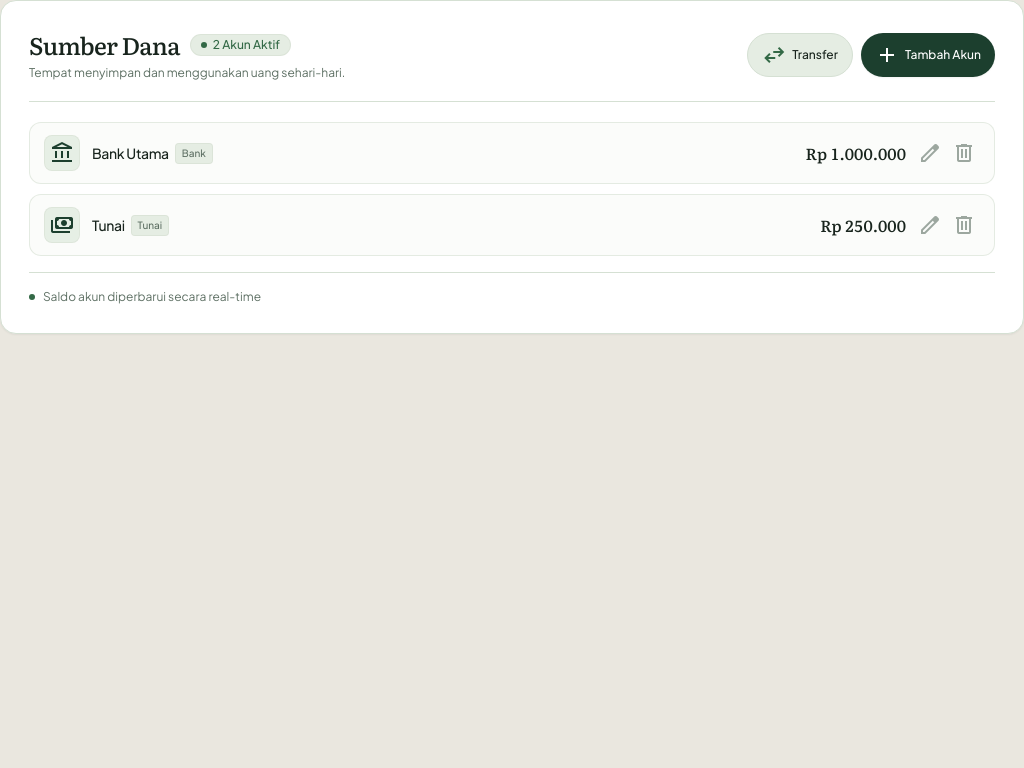
Test: SumberDanaSection interactions › keeps the account form open after a failed save and closes after success
Click the button "Tambah Akun" at (928, 55), box x1=861 y1=33 x2=995 y2=77
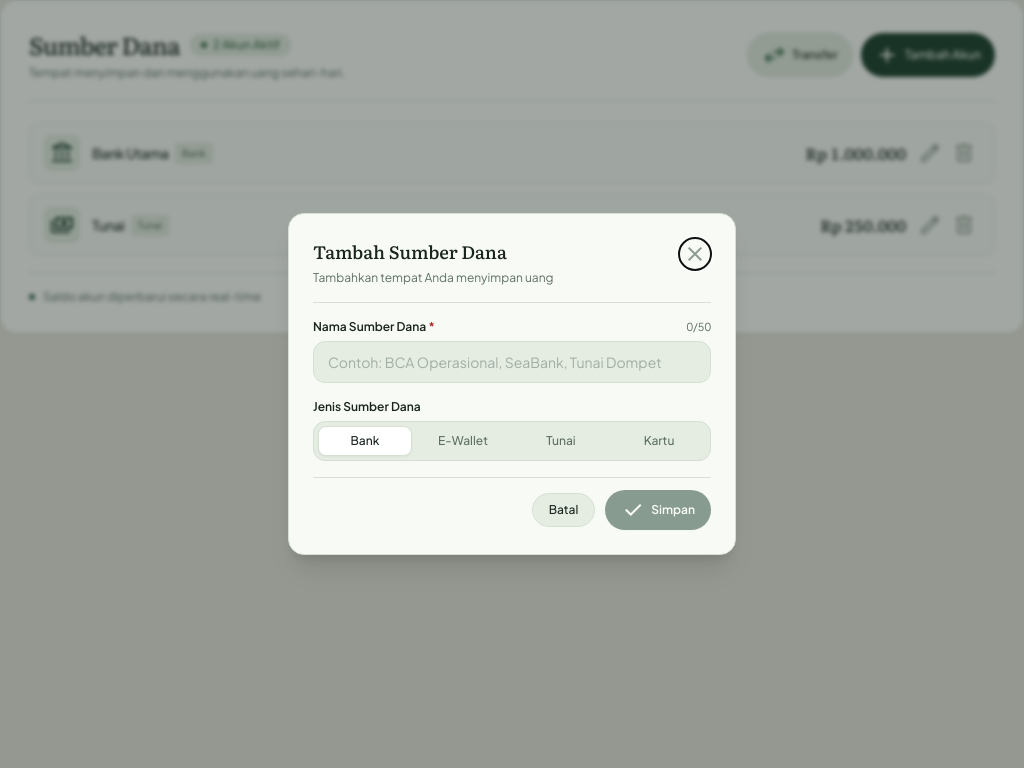
Type "  Rekening Baru  " into the field labelled "Nama Sumber Dana *" at (512, 362), box x1=313 y1=341 x2=711 y2=383
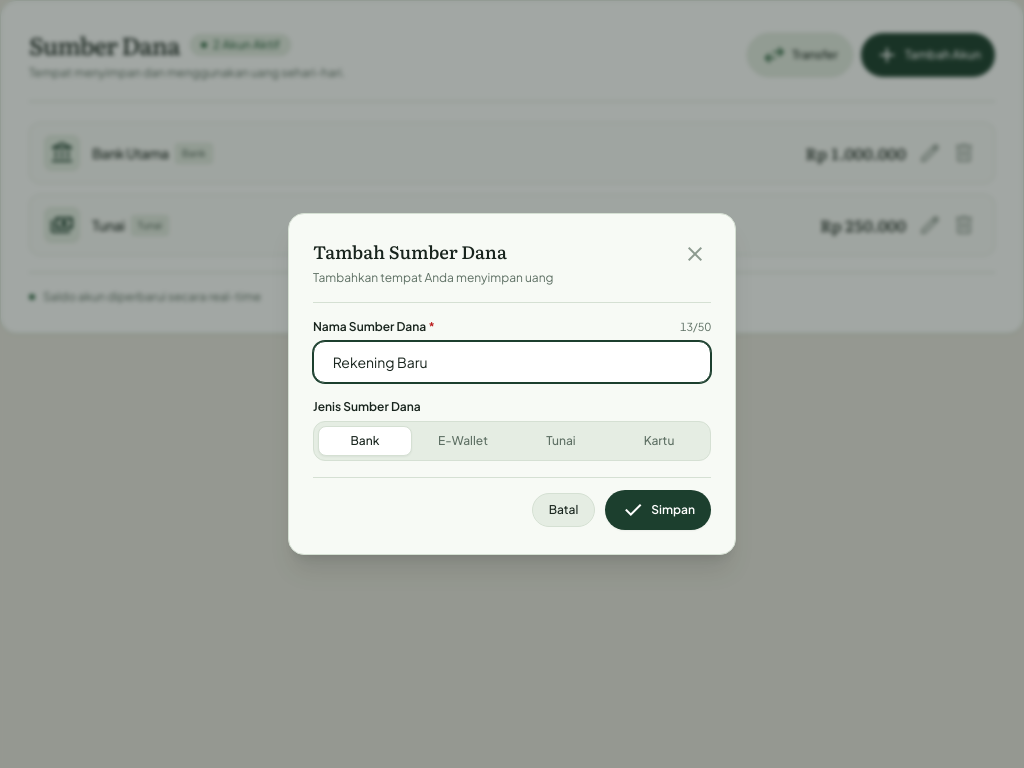
Click the button "Simpan" at (658, 510), box x1=605 y1=490 x2=711 y2=530
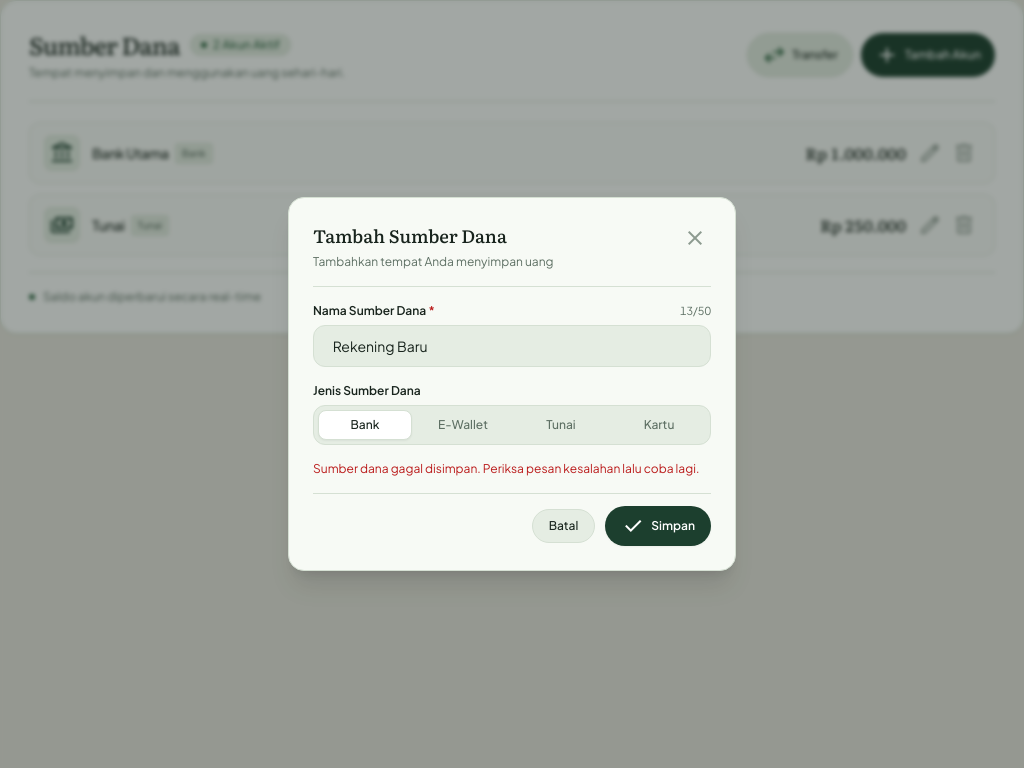
Now the dialog "Tambah Sumber Dana" is shown
Now the message "Sumber dana gagal disimpan. Periksa pesan kesalahan lalu coba lagi." is shown, box x1=313 y1=461 x2=711 y2=477
Click the button "Simpan" at (658, 526), box x1=605 y1=506 x2=711 y2=546
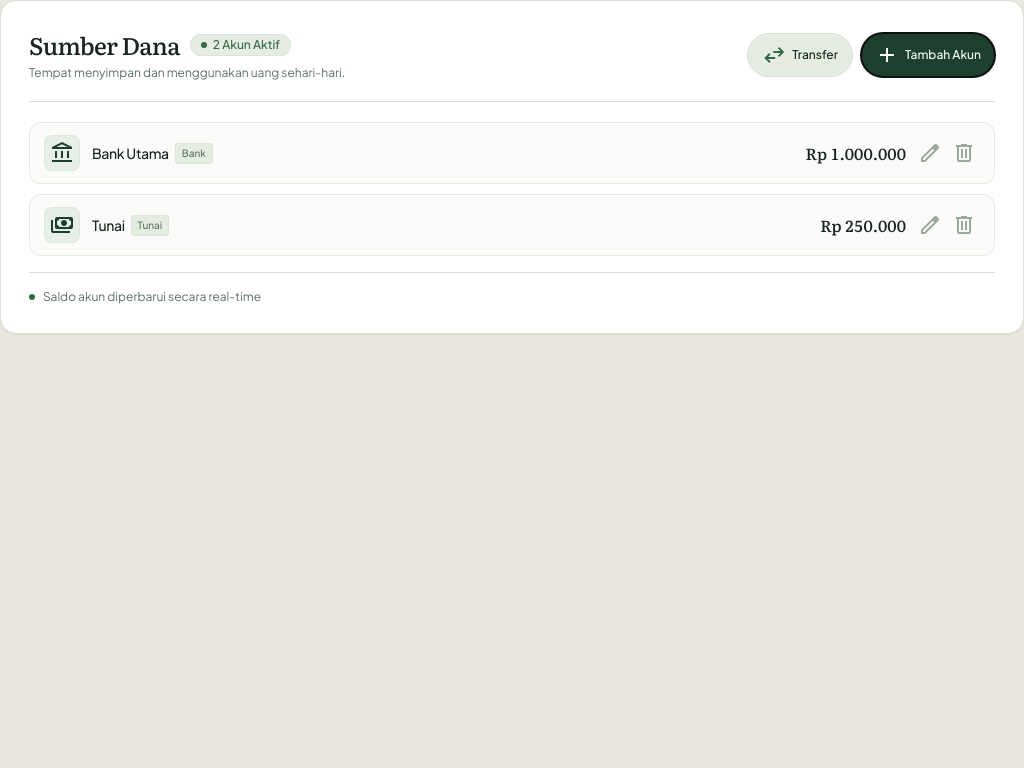
Now the heading "Tambah Sumber Dana" is gone
